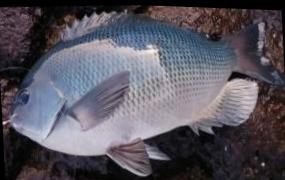fish: (9, 12, 284, 176)
